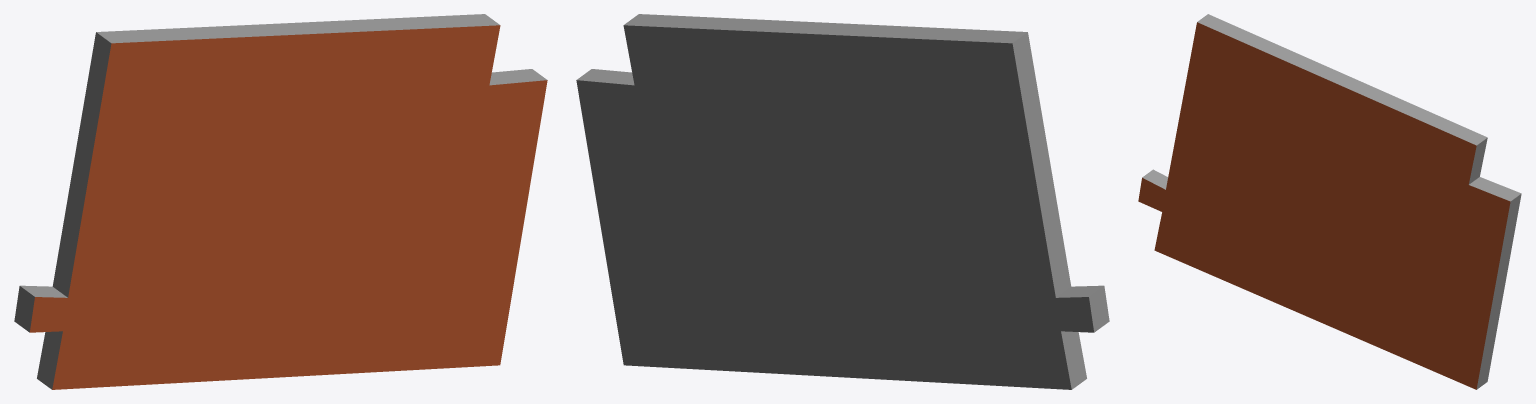
File: construction_0109_assumed_A_Grande_construcao_h6m.obj
The picture shows the model from 3 angles, left to right: view 1: azimuth 30°, elevation 25°; view 2: azimuth 150°, elevation 25°; view 3: azimuth 330°, elevation 25°; orthographic projection. The views are drawn at different scales.
Visible parts, largest first — view 1: construction_0109_assumed_A_Grande_construcao; view 2: construction_0109_assumed_A_Grande_construcao; view 3: construction_0109_assumed_A_Grande_construcao.
Part boxes in pixels (x1,y1,x2,y2): construction_0109_assumed_A_Grande_construcao: (14,14,547,389); construction_0109_assumed_A_Grande_construcao: (576,14,1109,389); construction_0109_assumed_A_Grande_construcao: (1138,14,1521,389).
Bounding box in the file's own units: 116 × 89.42 × 6.
